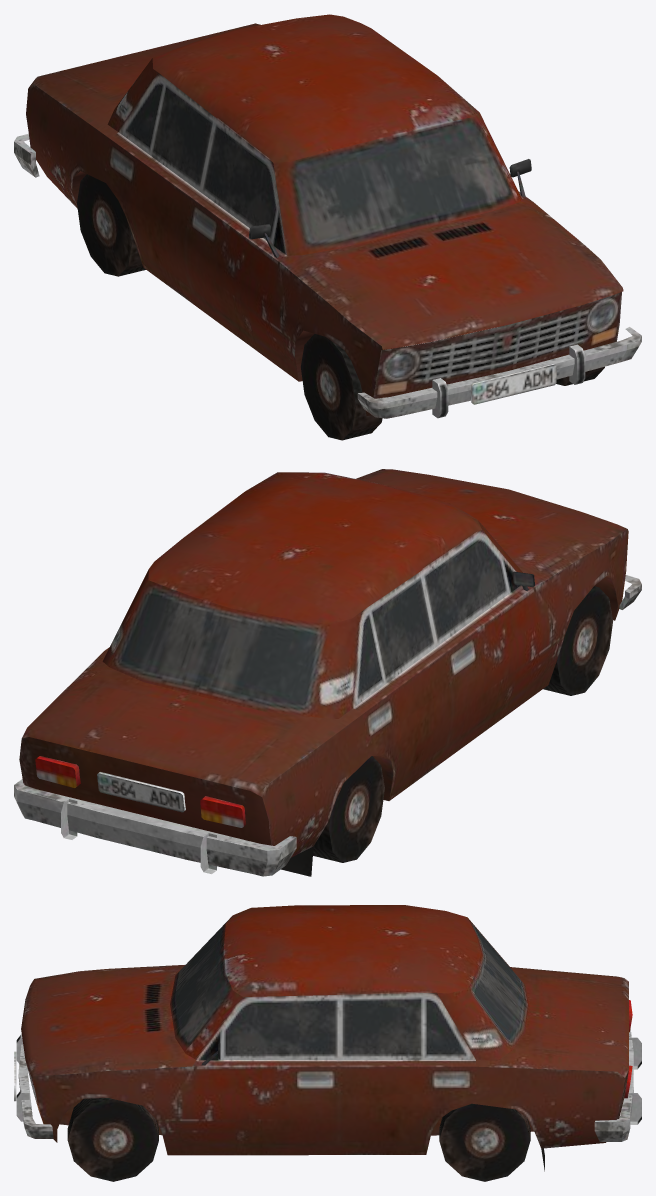
Rendered from car_zhiguli_4.glb.
3 views of the same model, one above another, from view 1: azimuth 30°, elevation 25°; view 2: azimuth 150°, elevation 25°; view 3: azimuth 270°, elevation 25° (orthographic). The views are drawn at different scales.
Parts seen in each view (by area): view 1: car_zhiguli_4; view 2: car_zhiguli_4; view 3: car_zhiguli_4.
Part boxes in pixels (box(x1,y1,x2,y2)): car_zhiguli_4: box(14, 14, 641, 440); car_zhiguli_4: box(14, 469, 641, 876); car_zhiguli_4: box(14, 905, 641, 1181).
Size of the model in its own units: 1.8 by 1.43 by 4.18.
1 material, 1 textured.
